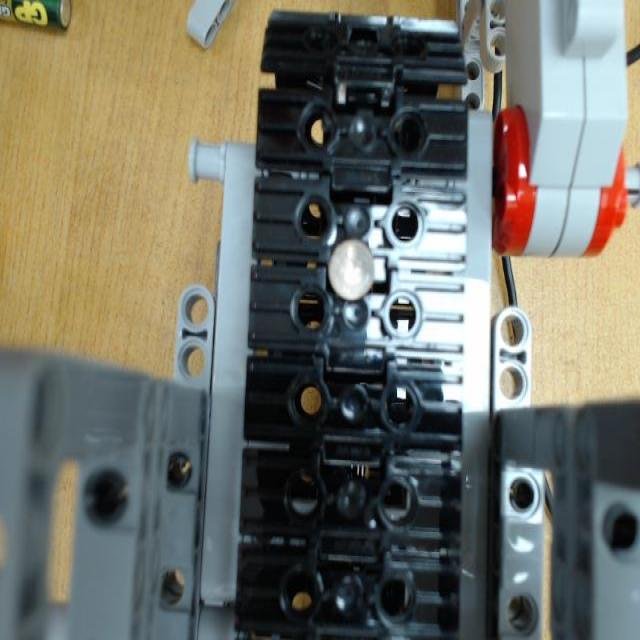COIN: (324, 236, 376, 304)
